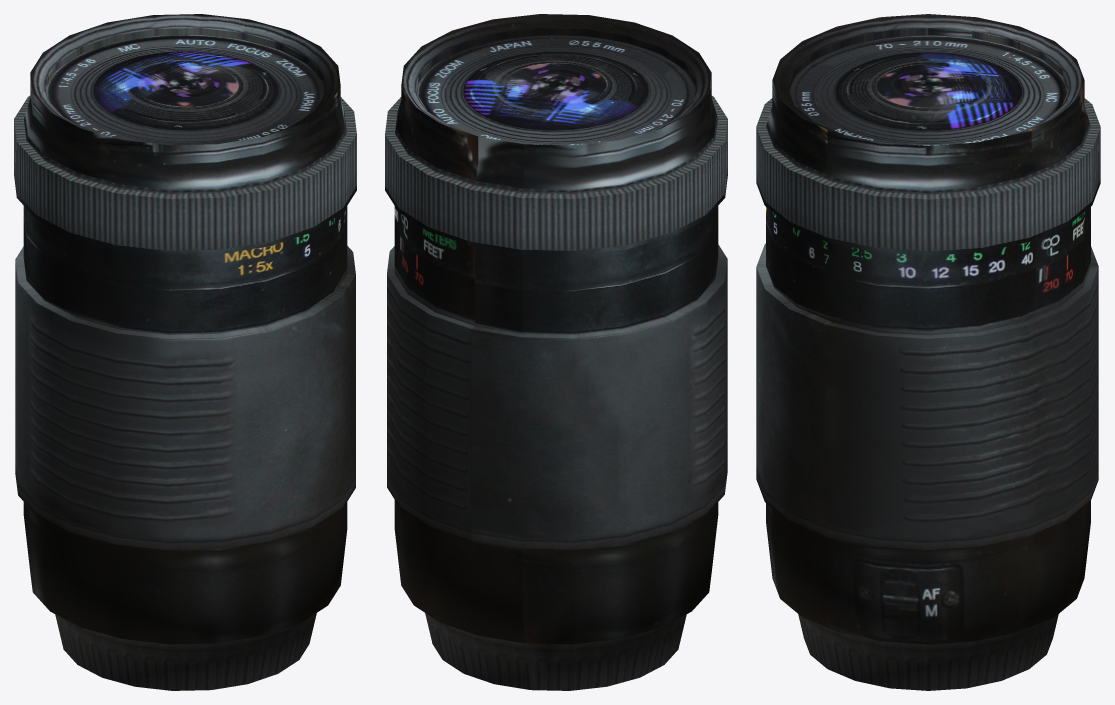
The model's file is lens.FBX.
3 renders of one model, left to right at view 1: azimuth 30°, elevation 25°; view 2: azimuth 150°, elevation 25°; view 3: azimuth 270°, elevation 25°, orthographic.
Visible parts, largest first — view 1: Cylinder00; view 2: Cylinder00; view 3: Cylinder00.
Part boxes in pixels (x1=…): Cylinder00: x1=14, y1=14, x2=356, y2=690; Cylinder00: x1=385, y1=14, x2=727, y2=690; Cylinder00: x1=756, y1=14, x2=1100, y2=690.
Bounding box in the file's own units: 0.6364 × 1.14 × 0.6364.
1 material, 1 textured.
